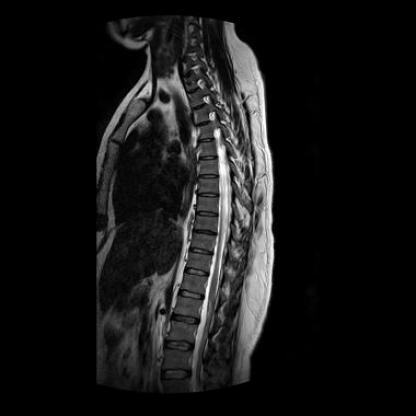Demyelinating Plaquesrotation: (198, 209, 219, 221), (198, 136, 218, 146)
Hemangiomatarotation: (188, 253, 212, 272), (194, 125, 215, 139)
